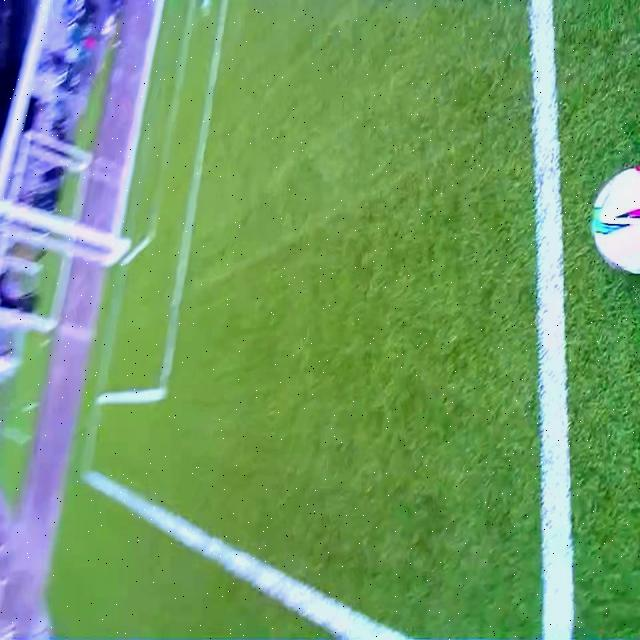ball: (592, 167, 640, 279)
